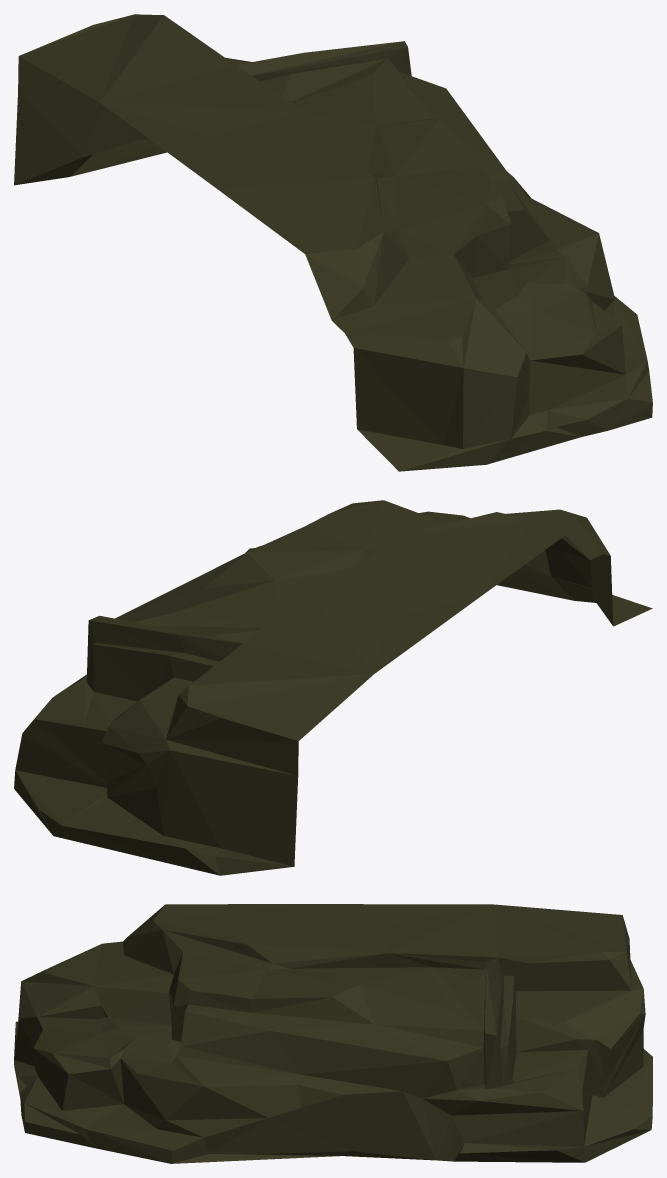
File: shore-ledge.lod1.glb
3 renders of one model, top to bottom at view 1: azimuth 30°, elevation 25°; view 2: azimuth 150°, elevation 25°; view 3: azimuth 270°, elevation 25°, orthographic. The views are drawn at different scales.
Visible parts, largest first — view 1: cliff_lp_cliff_0; view 2: cliff_lp_cliff_0; view 3: cliff_lp_cliff_0.
Boxes of the visible parts, box(x1,y1,x2,y2) form: cliff_lp_cliff_0: box(14, 14, 652, 471); cliff_lp_cliff_0: box(14, 500, 652, 875); cliff_lp_cliff_0: box(14, 904, 652, 1163).
Bounding box in the file's own units: 8.95 × 4.26 × 18.1.
